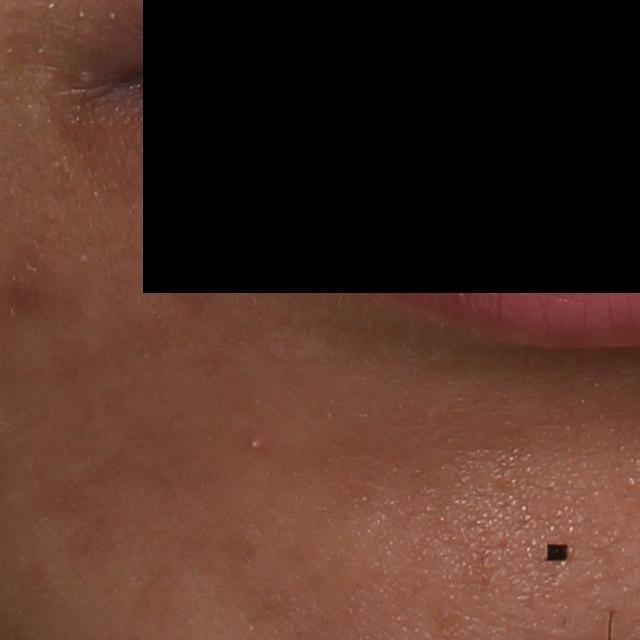pustule: (243, 435, 262, 451)
